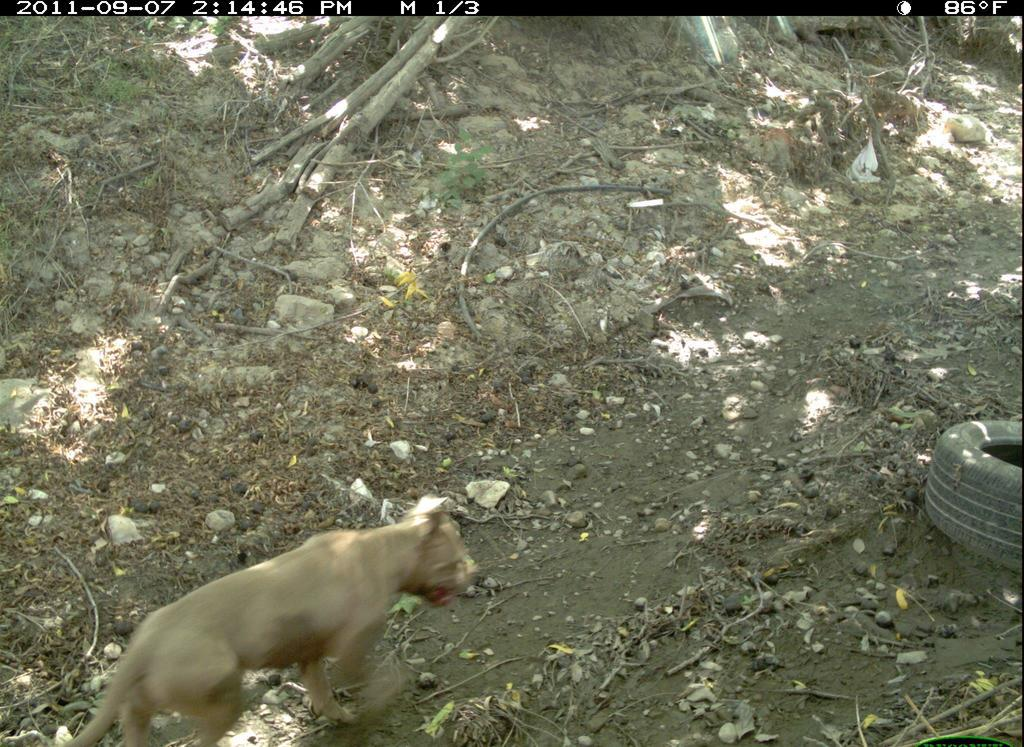dog: (71, 487, 479, 742)
